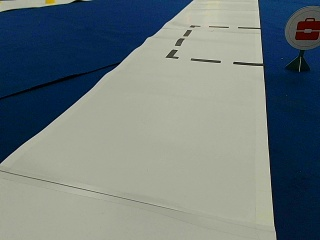company: (285, 5, 320, 48)
